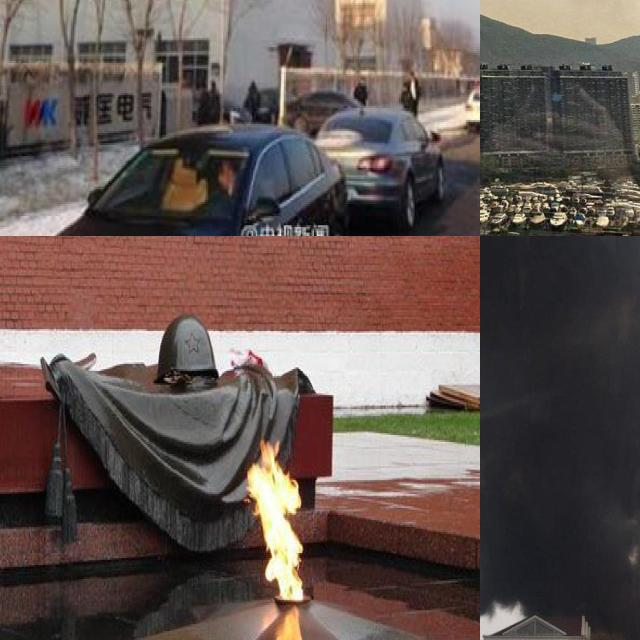fire: (243, 434, 306, 602)
smoke: (480, 236, 640, 640), (480, 0, 640, 67)
